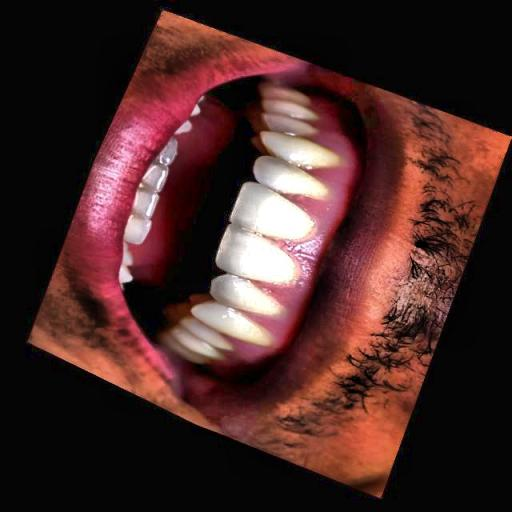Healthy: (122, 66, 353, 350)
